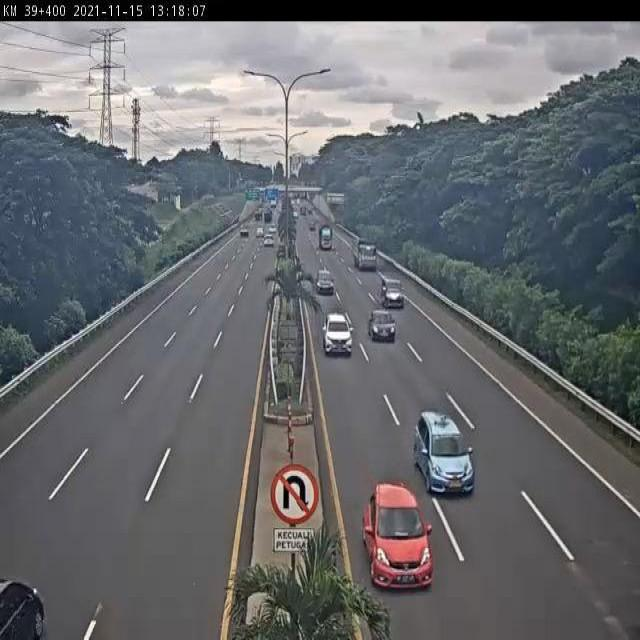car: (360, 480, 435, 592), (410, 404, 478, 495), (321, 310, 352, 354), (365, 308, 398, 345), (379, 275, 405, 309), (315, 267, 336, 296)
